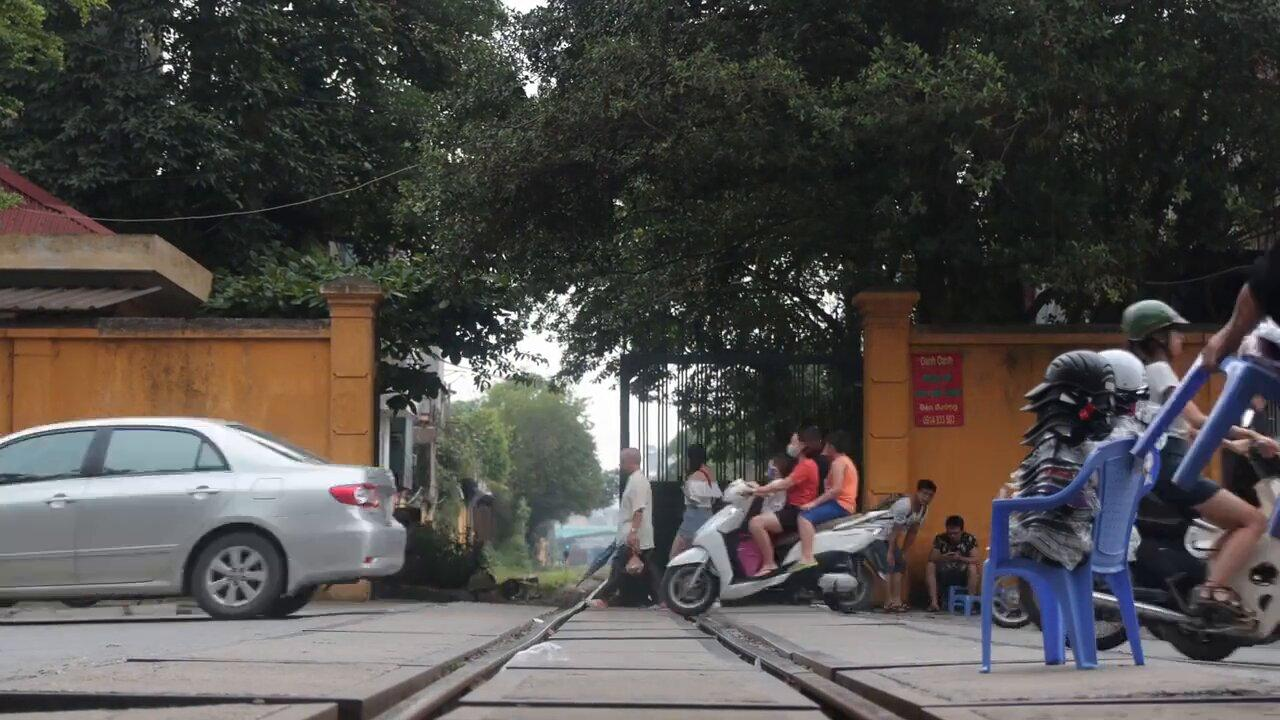driver: (1016, 298, 1280, 651), (660, 426, 893, 615)
helmet: (1121, 299, 1191, 362)
no-helmet: (786, 426, 823, 459), (820, 428, 851, 457), (768, 455, 794, 479)
